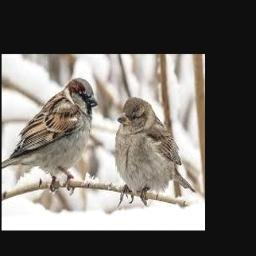Sparrow: (2, 77, 98, 195), (114, 97, 196, 208)
